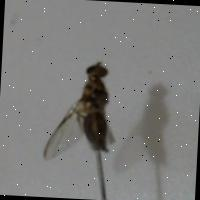Oriental-fruit-fly: (36, 35, 146, 176)
